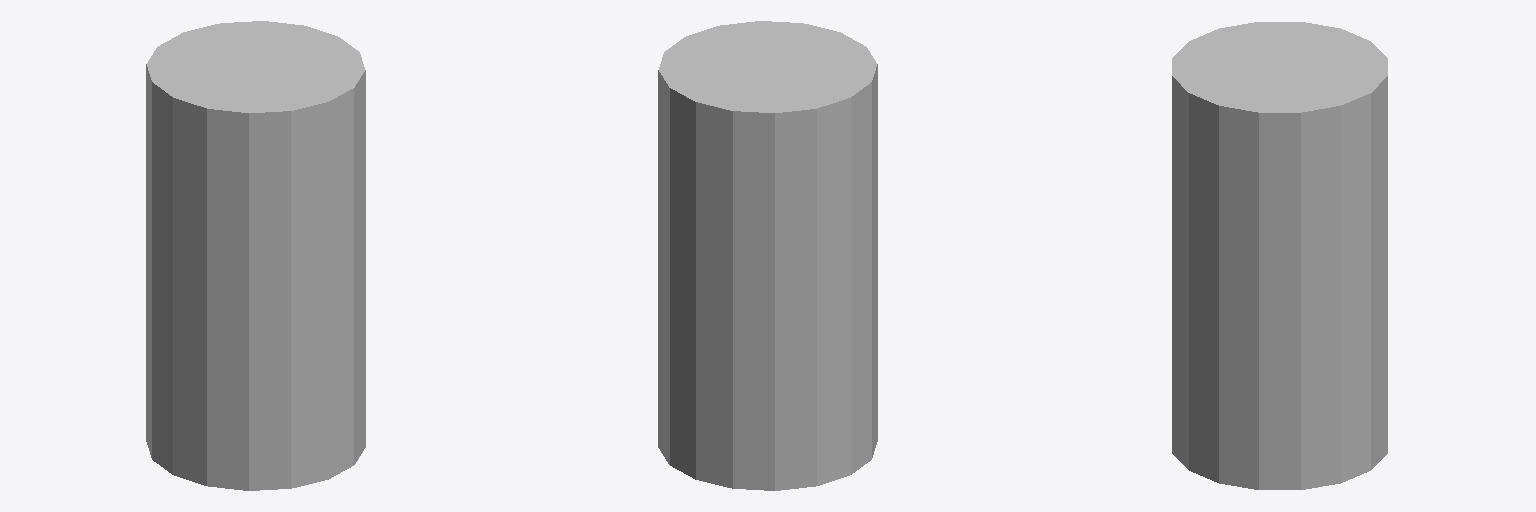
File: Wax_SRB_A_Collider.obj
The picture shows the model from 3 angles: view 1: azimuth 30°, elevation 25°; view 2: azimuth 150°, elevation 25°; view 3: azimuth 270°, elevation 25°; orthographic projection.
Parts seen in each view (by area): view 1: Wax_SRB_A_Collider; view 2: Wax_SRB_A_Collider; view 3: Wax_SRB_A_Collider.
Boxes of the visible parts, x1=… form: Wax_SRB_A_Collider: x1=146, y1=21, x2=365, y2=490; Wax_SRB_A_Collider: x1=658, y1=21, x2=877, y2=490; Wax_SRB_A_Collider: x1=1172, y1=22, x2=1387, y2=489.
Size of the model in its own units: 0.625 by 1.21 by 0.625.